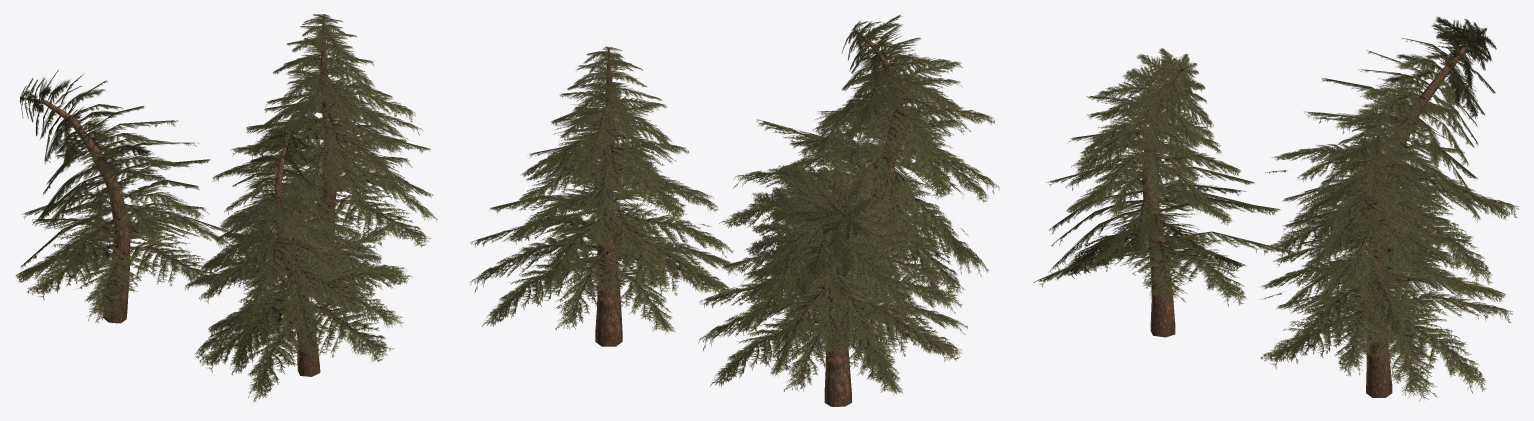
File: pine_tree_trio_free_download.glb
3 views of the same model, side by side, from view 1: azimuth 30°, elevation 25°; view 2: azimuth 150°, elevation 25°; view 3: azimuth 270°, elevation 25° (orthographic). The views are drawn at different scales.
Parts seen in each view (by area): view 1: pine_tree.002, pine_tree.001, pine_tree; view 2: pine_tree.001, pine_tree, pine_tree.002; view 3: pine_tree, pine_tree.002, pine_tree.001.
Part boxes in pixels (x1,y1,x2,y2): pine_tree.002: (184, 129, 412, 401); pine_tree.001: (16, 70, 230, 323); pine_tree: (212, 14, 437, 246); pine_tree.001: (698, 150, 967, 406); pine_tree: (470, 46, 738, 346); pine_tree.002: (719, 14, 999, 303); pine_tree: (1260, 111, 1512, 401); pine_tree.002: (1033, 48, 1293, 337); pine_tree.001: (1265, 16, 1519, 291).
Size of the model in its own units: 1.57 by 0.9449 by 1.5.
Materials: 1 (1 with a texture image).
